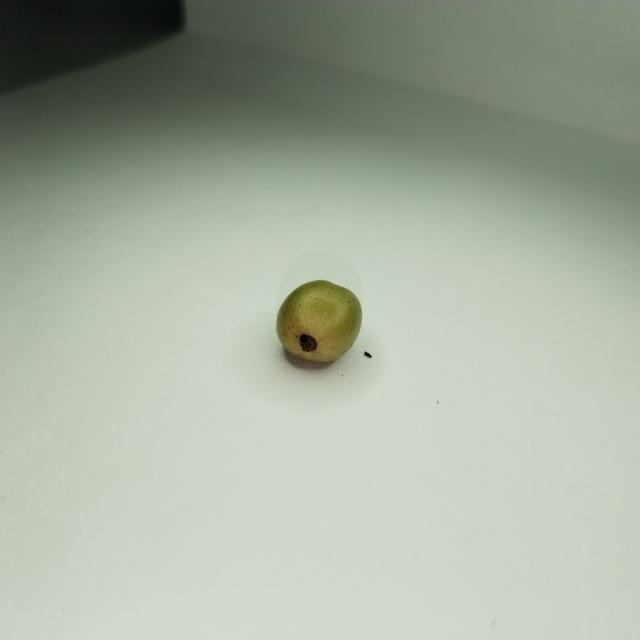Infectado: (276, 279, 362, 368)
